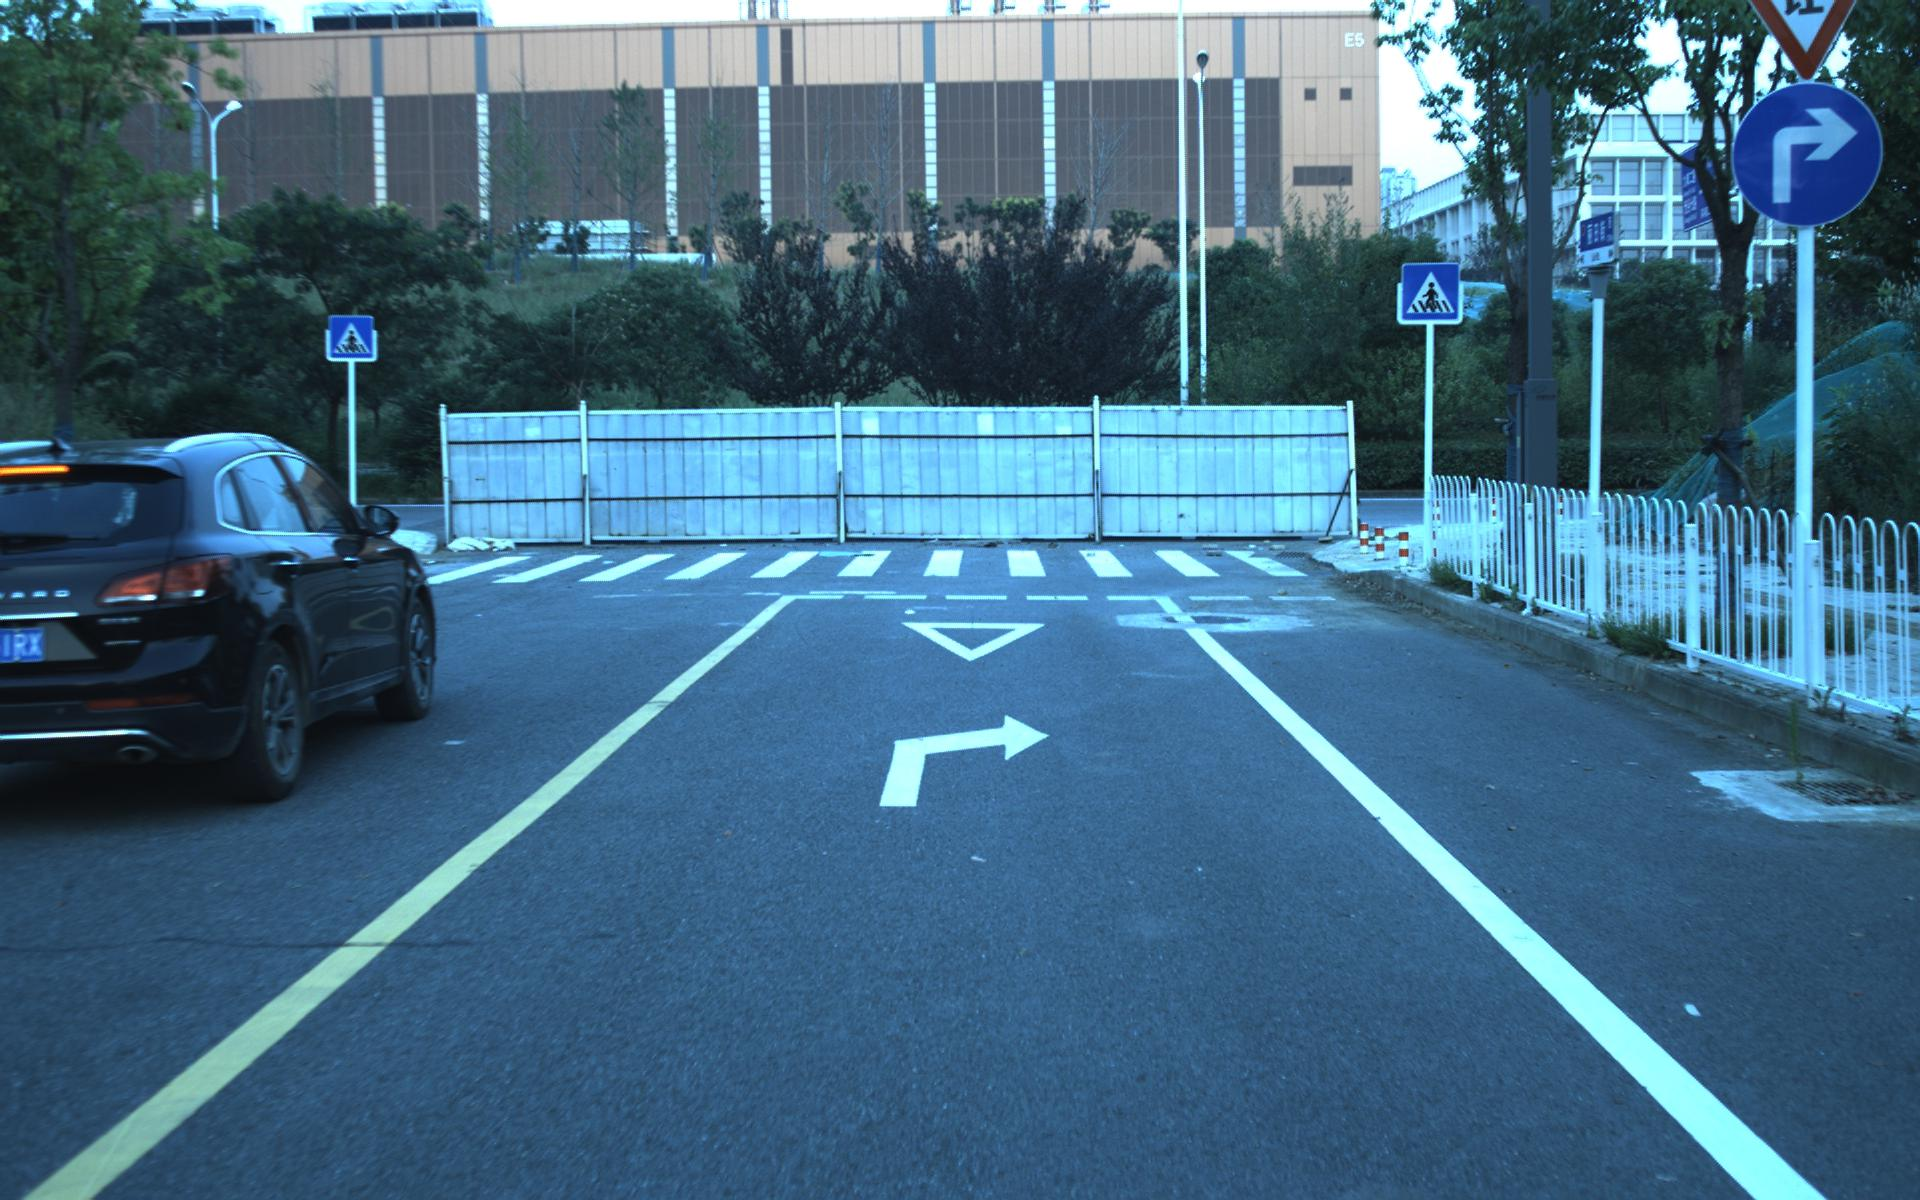Car: (3, 415, 451, 816)
